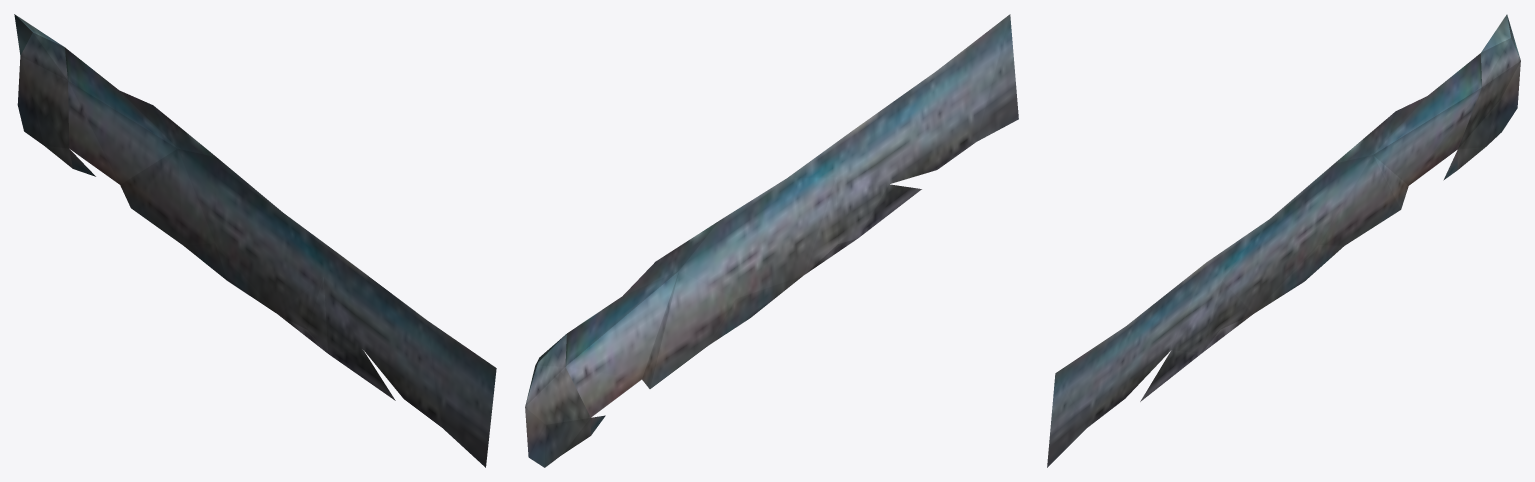
The model's file is meshes_1-dynamic - BLK2GO-3630355-Scan 080 52.obj.
3 renders of one model, left to right at view 1: azimuth 30°, elevation 25°; view 2: azimuth 150°, elevation 25°; view 3: azimuth 330°, elevation 25°, orthographic. The views are drawn at different scales.
Visible parts, largest first — view 1: 1-dynamic_-_BLK2GO-3630355-Scan_080_52_0; view 2: 1-dynamic_-_BLK2GO-3630355-Scan_080_52_0; view 3: 1-dynamic_-_BLK2GO-3630355-Scan_080_52_0.
Boxes of the visible parts, x1,y1,x2,y2 form: 1-dynamic_-_BLK2GO-3630355-Scan_080_52_0: [14, 14, 496, 467]; 1-dynamic_-_BLK2GO-3630355-Scan_080_52_0: [525, 14, 1018, 467]; 1-dynamic_-_BLK2GO-3630355-Scan_080_52_0: [1047, 14, 1520, 467].
Bounding box in the file's own units: 0.0313 × 0.2298 × 1.69.
1 material, 1 textured.
